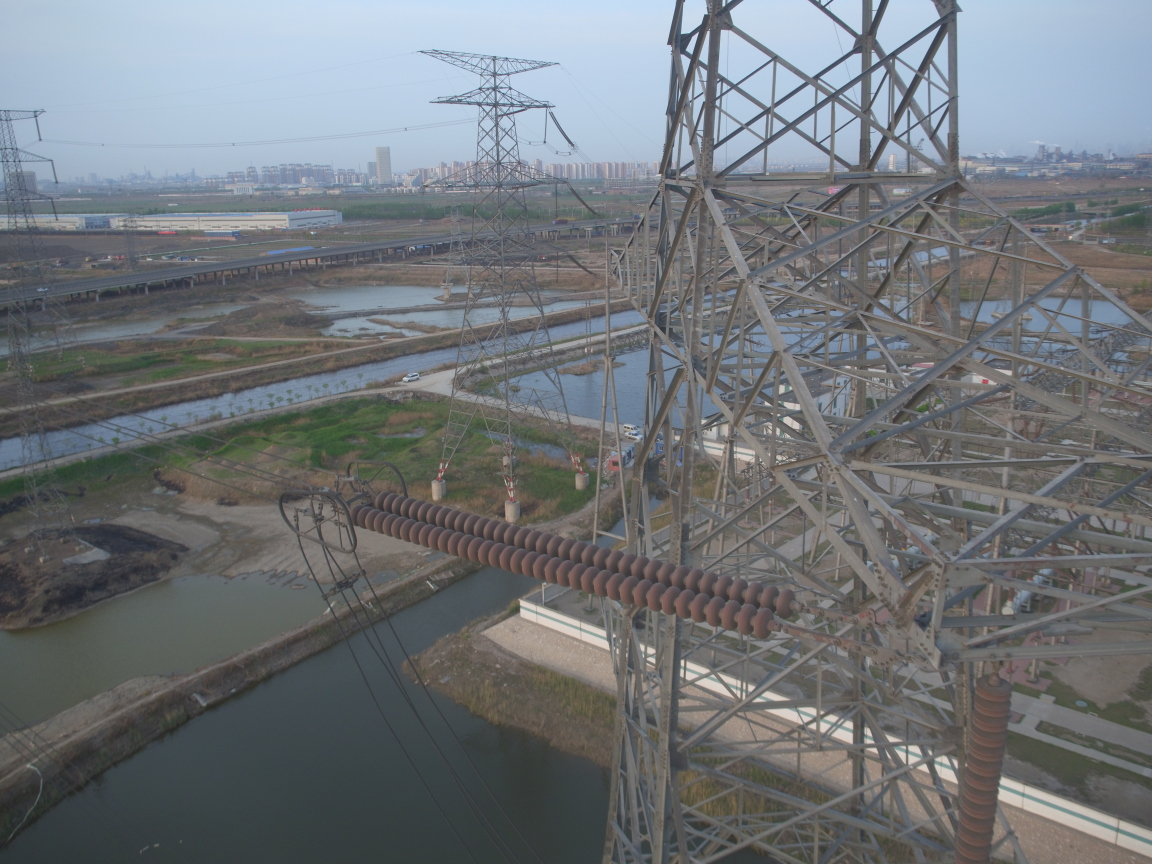insulator: (337, 484, 821, 643)
